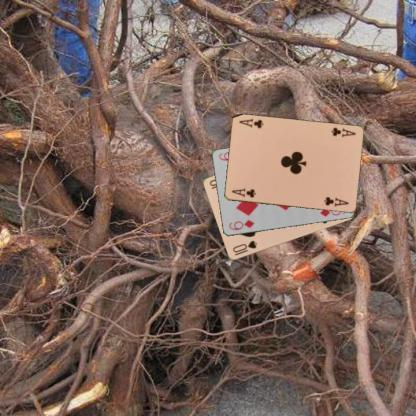10s: (230, 238, 258, 257)
6d: (226, 218, 256, 232)
Ac: (228, 185, 258, 199), (328, 124, 357, 138)
